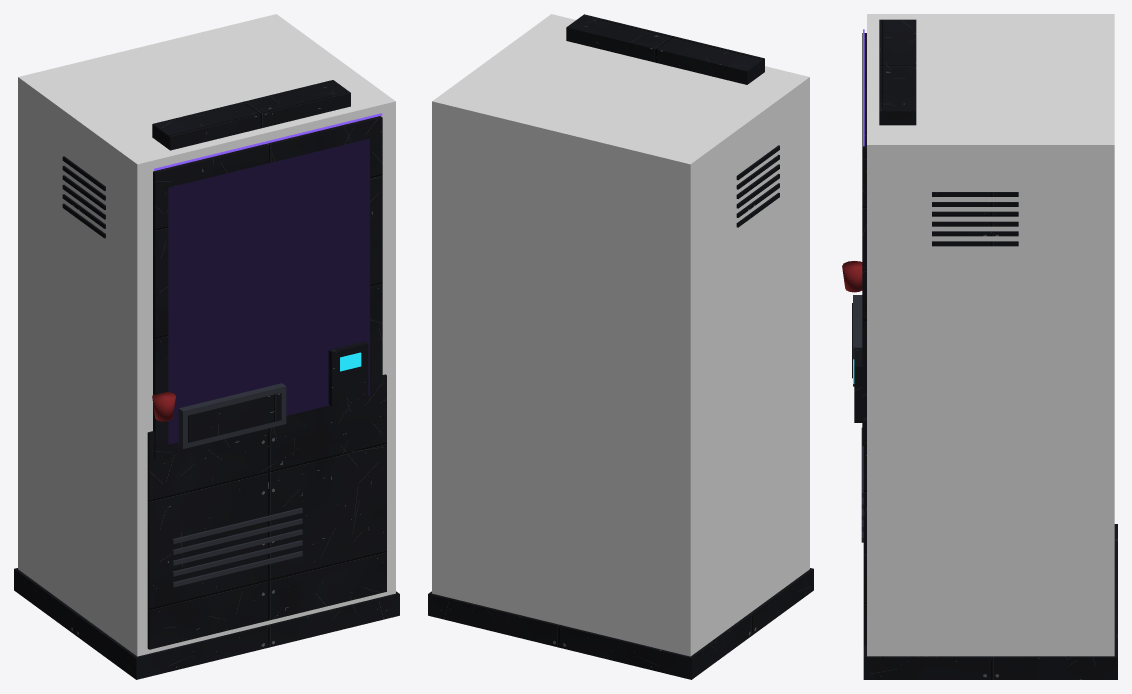
File: Tech_Vending_Drinks.gltf
3 renders of one model, left to right at view 1: azimuth 30°, elevation 25°; view 2: azimuth 150°, elevation 25°; view 3: azimuth 270°, elevation 25°, orthographic. The views are drawn at different scales.
Visible parts, largest first — view 1: Tech_Vending_Drinks, Tech_Vending_Drinks_COL; view 2: Tech_Vending_Drinks_COL, Tech_Vending_Drinks; view 3: Tech_Vending_Drinks_COL, Tech_Vending_Drinks.
Boxes of the visible parts, x1=… form: Tech_Vending_Drinks: x1=14, y1=80, x2=399, y2=679; Tech_Vending_Drinks_COL: x1=18, y1=14, x2=395, y2=656; Tech_Vending_Drinks_COL: x1=432, y1=14, x2=809, y2=656; Tech_Vending_Drinks: x1=428, y1=14, x2=813, y2=679; Tech_Vending_Drinks_COL: x1=867, y1=14, x2=1114, y2=656; Tech_Vending_Drinks: x1=842, y1=19, x2=1117, y2=679.
Bounding box in the file's own units: 1.02 × 1.95 × 0.89.
Materials: 7 (2 with a texture image).
